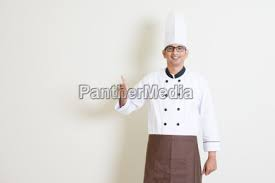Indian_Male: (162, 40, 189, 71)
